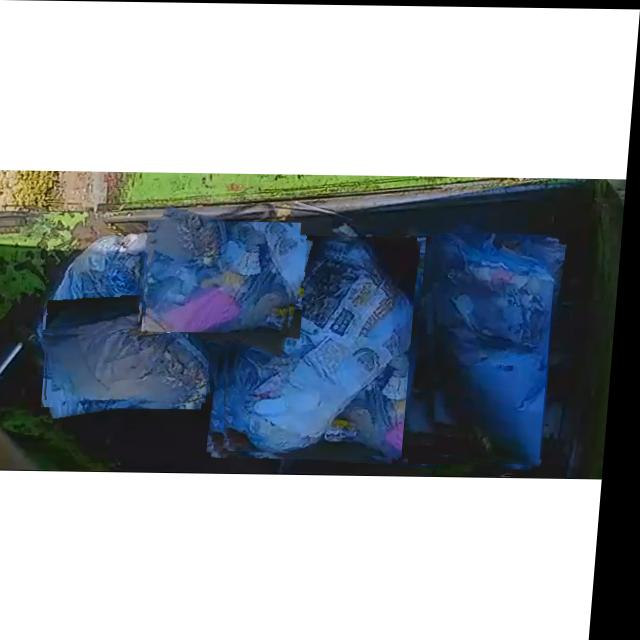other_trashbag: (228, 236, 418, 453), (435, 232, 558, 467), (51, 295, 215, 401), (140, 231, 294, 332), (49, 233, 152, 332)
